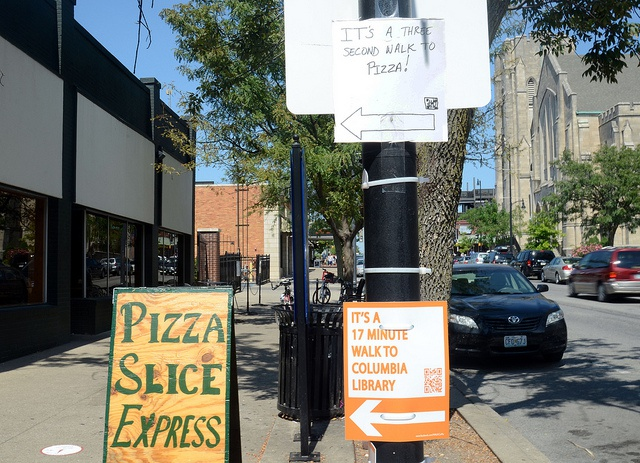non-vehicle: (312, 267, 339, 304), (271, 280, 292, 311)
